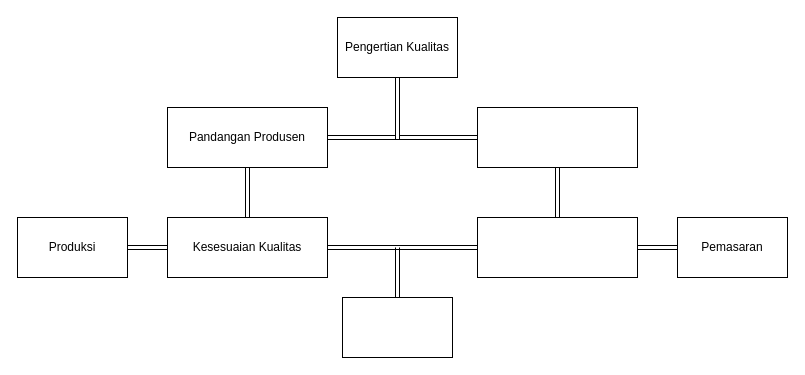
Image size: 805x375. Some labels were removed from this diagram. Here are the shapes that lost their labels. From the top down, the centre of each, then its label:
At (x=557, y=137): "Pandangan Konsumen".
At (x=557, y=247): "Kualitas Rancangan".
At (x=397, y=327): "Kesesuaian untuk digunakan".
